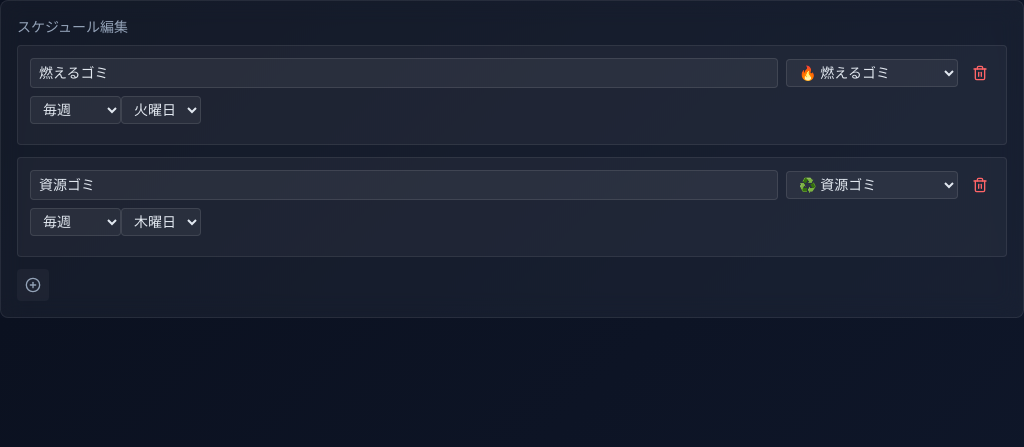
Scenario: ScheduleEditor › エントリーを追加ボタンで新規行が追加される
The width and height of the screenshot is (1024, 447).
Click the button named "エントリーを追加" at (33, 285), box [17, 269, 49, 301]
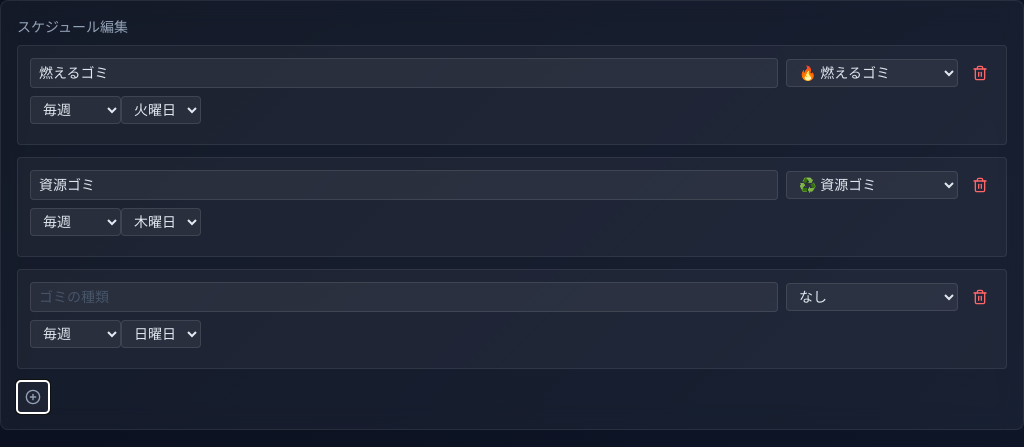
Now the number of fields with placeholder "ゴミの種類" is 3, box [30, 58, 778, 88]; [30, 170, 778, 200]; [30, 282, 778, 312]
